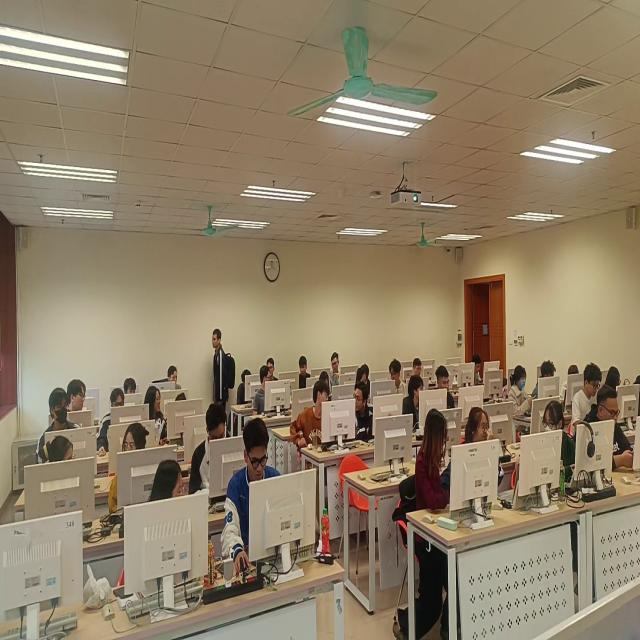raise_head: (125, 378, 137, 395)
stand: (213, 329, 236, 411)
using_computer: (222, 418, 283, 573), (584, 385, 635, 473), (36, 388, 83, 466), (190, 404, 228, 498), (571, 363, 603, 431), (98, 389, 126, 457), (436, 366, 456, 410), (560, 366, 581, 407), (153, 367, 183, 390), (357, 369, 371, 404), (605, 367, 622, 391), (473, 354, 484, 387), (320, 372, 331, 395), (414, 358, 423, 378), (362, 364, 370, 382)
using_phone: (509, 366, 537, 420)
